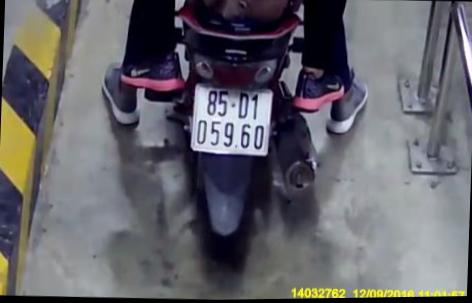LP: (191, 81, 274, 159)
